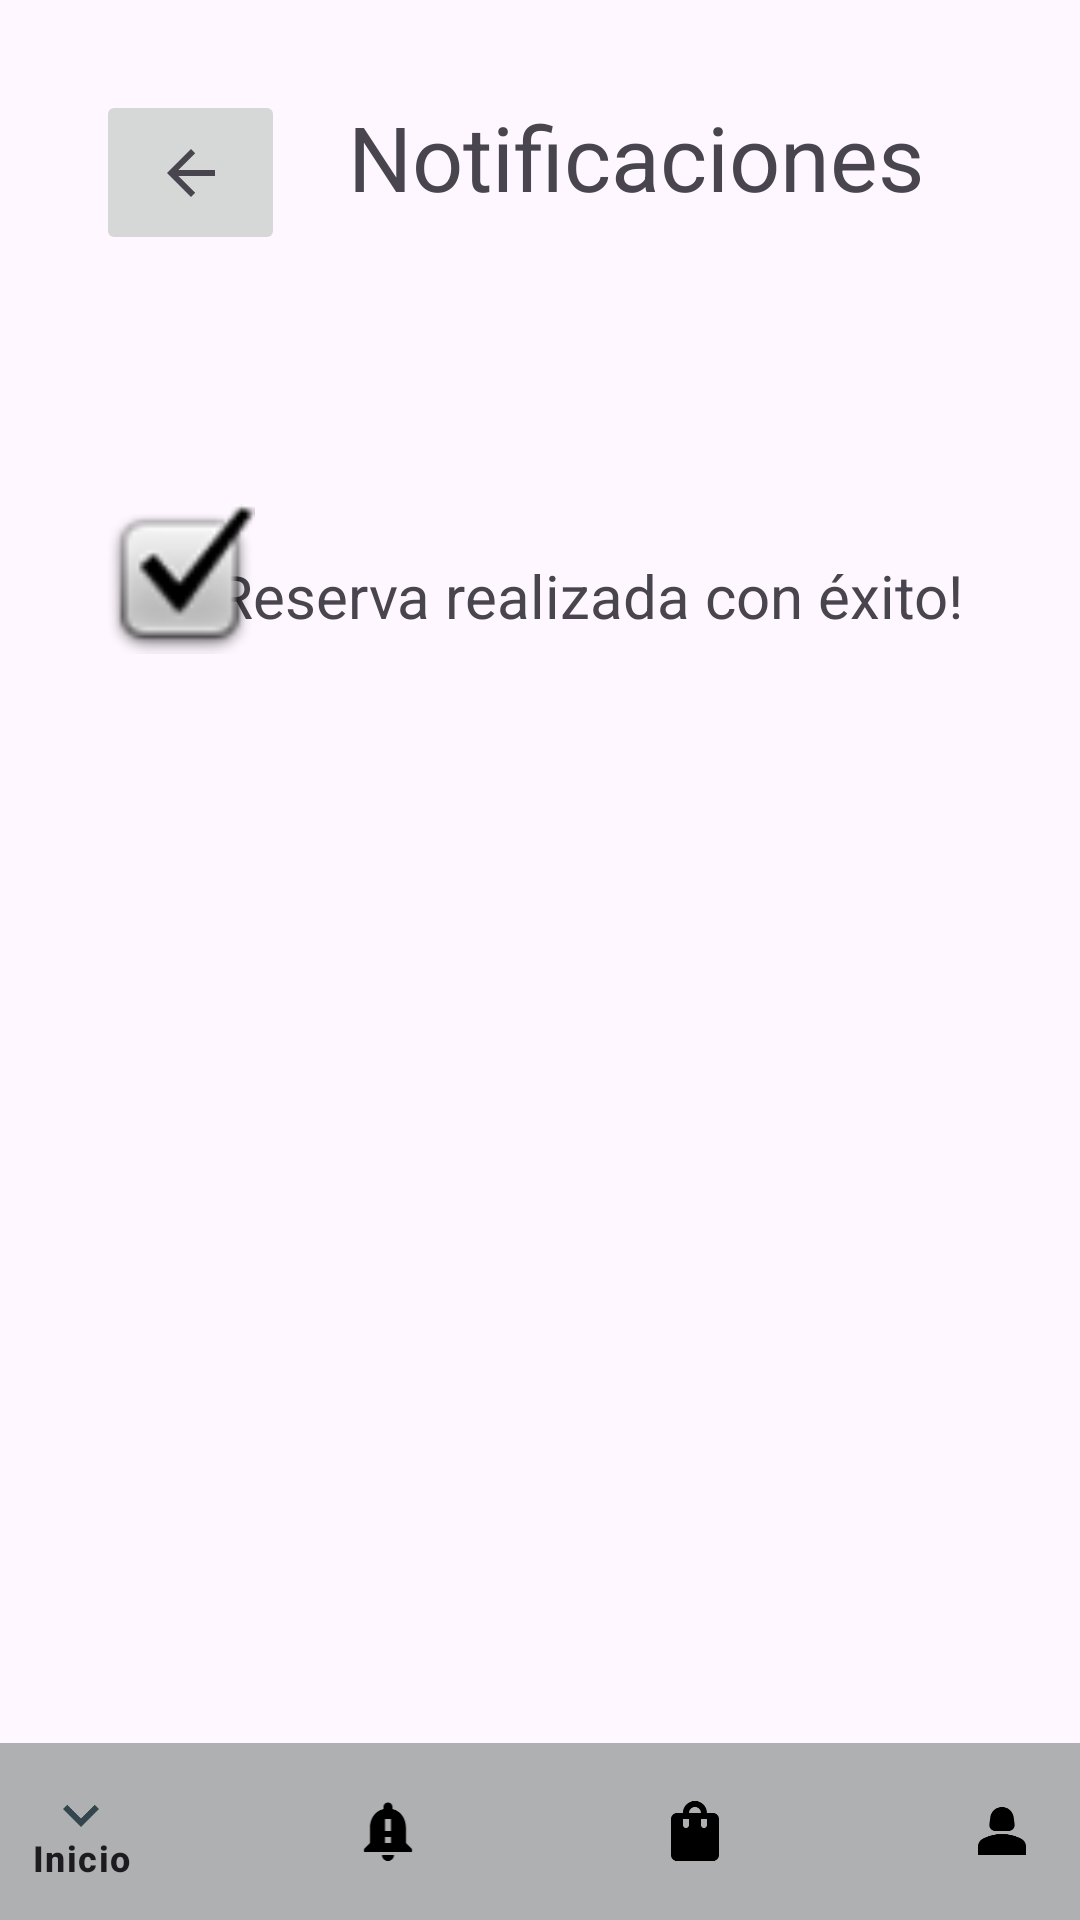

Screen size 1080px×1920px. Icon name, then its center in pixels as point (x, y):
Ir hacia atrás: point (190, 172)
